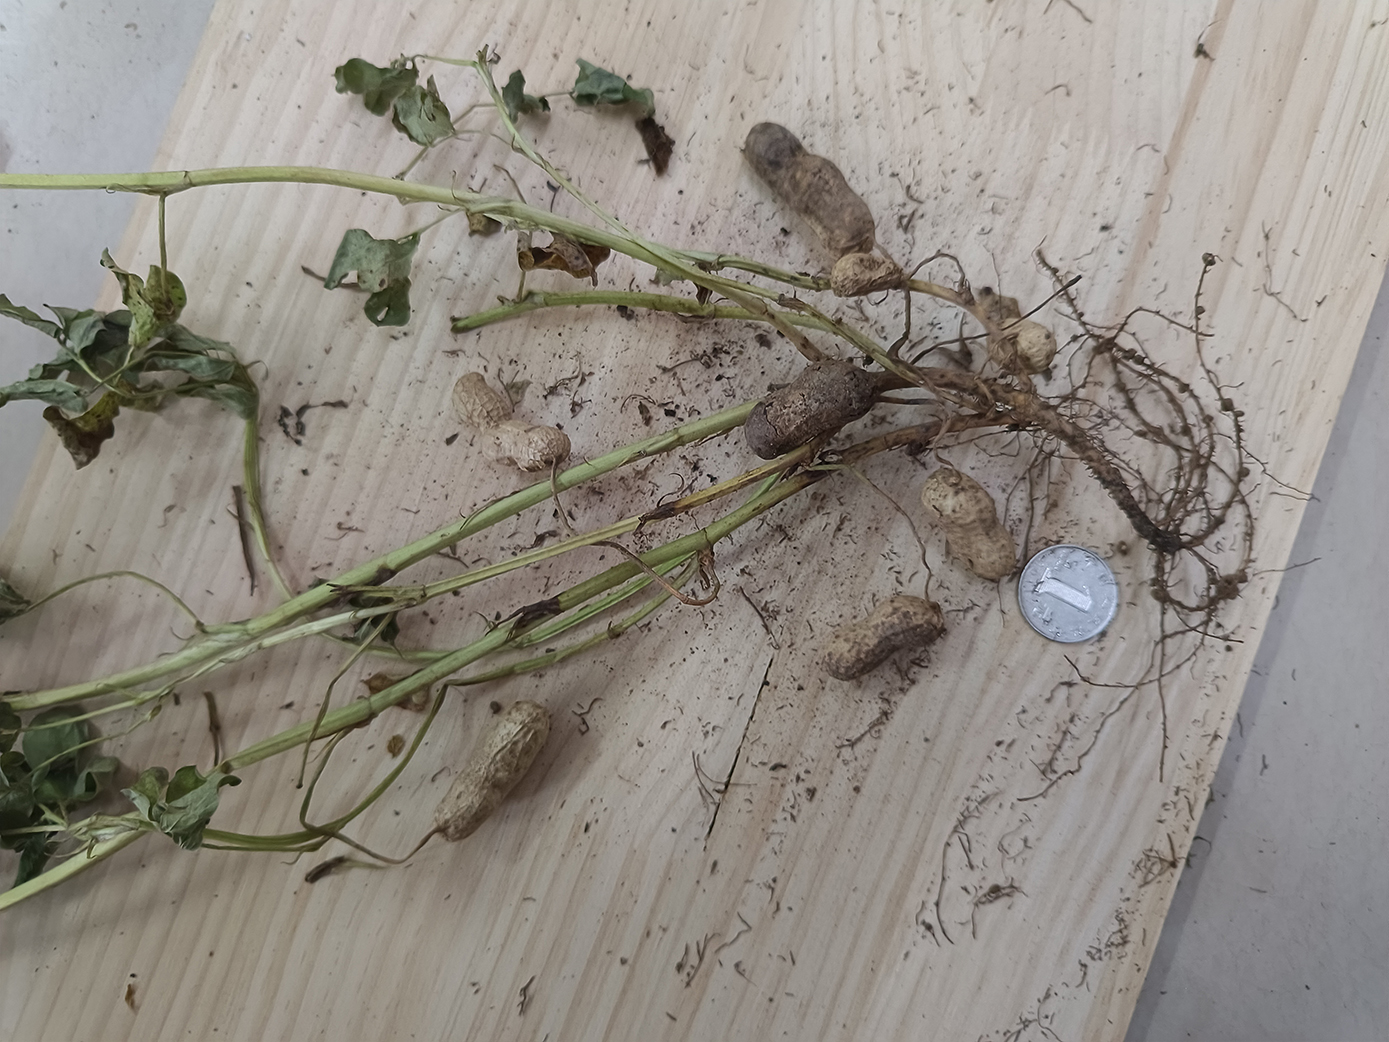h: (437, 702, 549, 843), (453, 372, 578, 474), (824, 591, 944, 680), (921, 472, 1018, 579), (985, 319, 1058, 370), (830, 252, 898, 294)
l: (745, 121, 875, 248), (744, 360, 880, 458)
